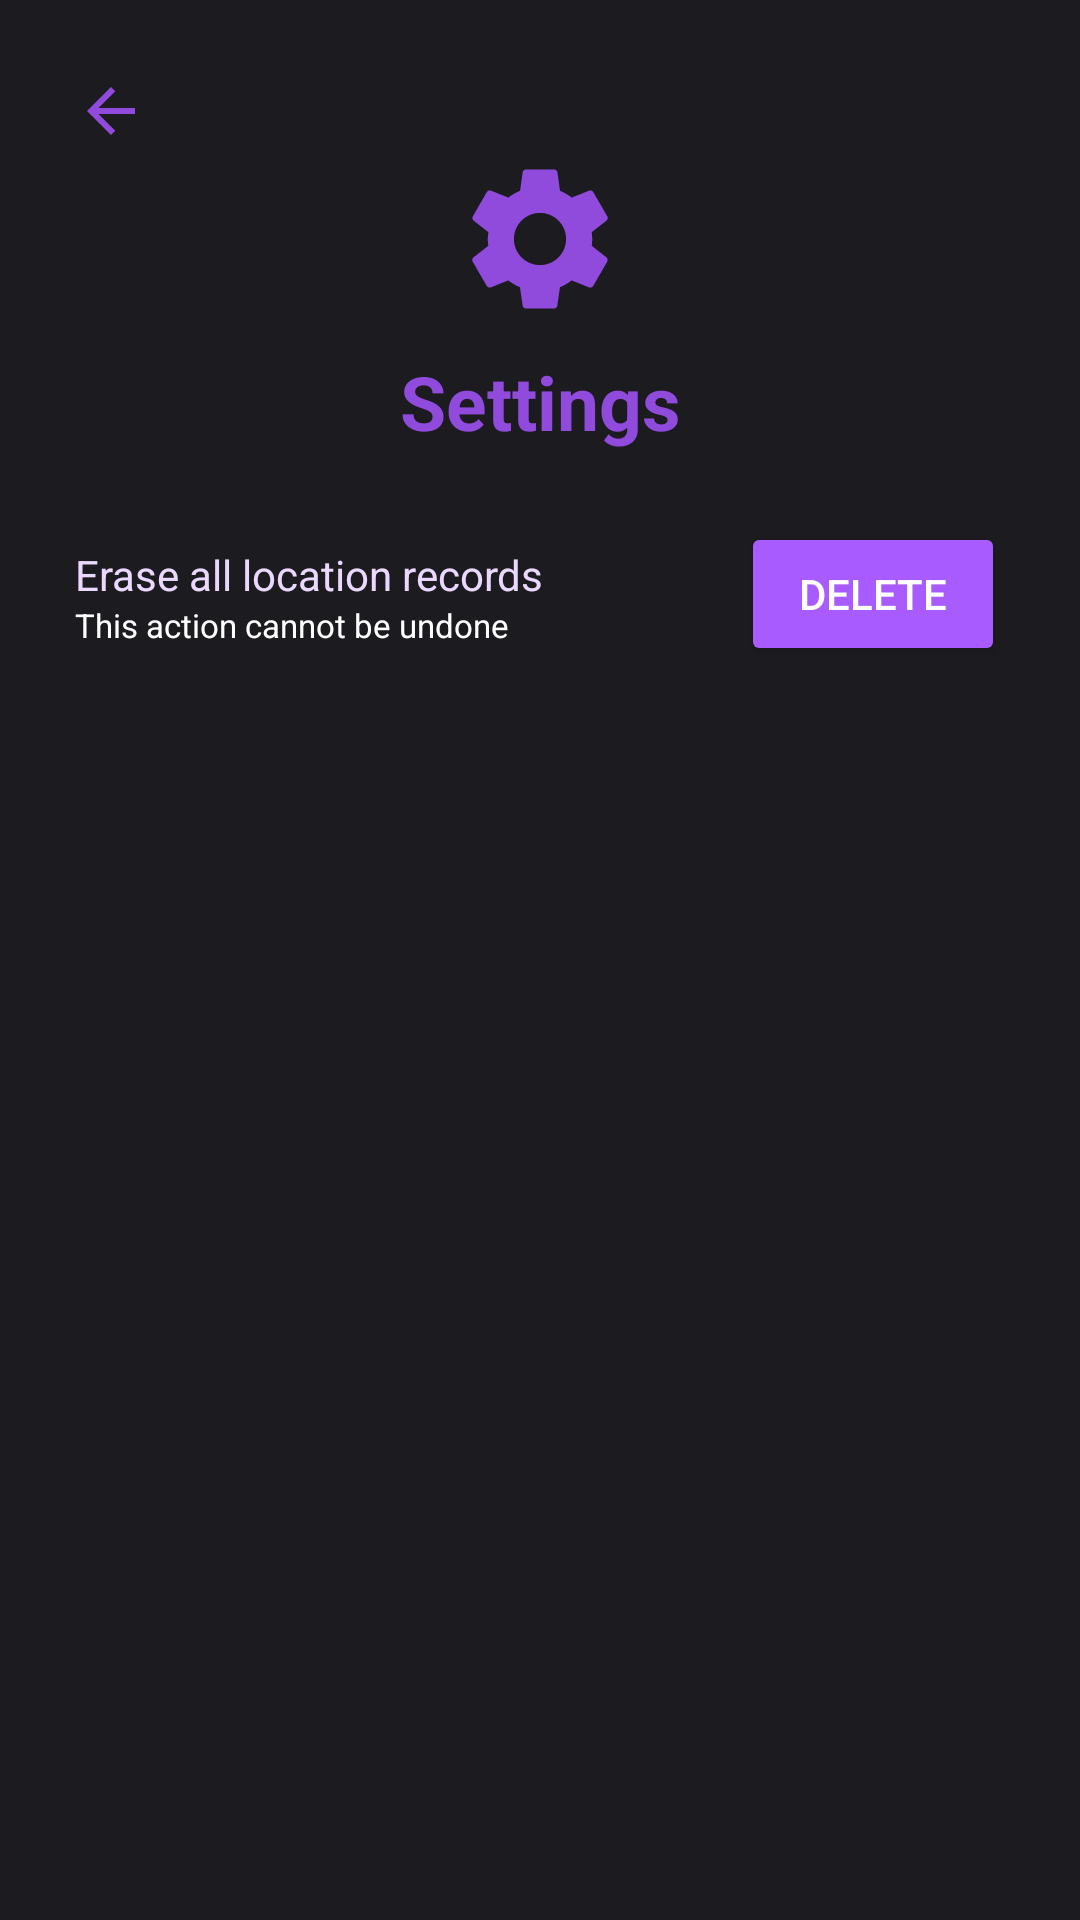

Screen size 1080px×1920px. Icon name, then its center in pixels as [x,y]:
arrow back: [111,111]
